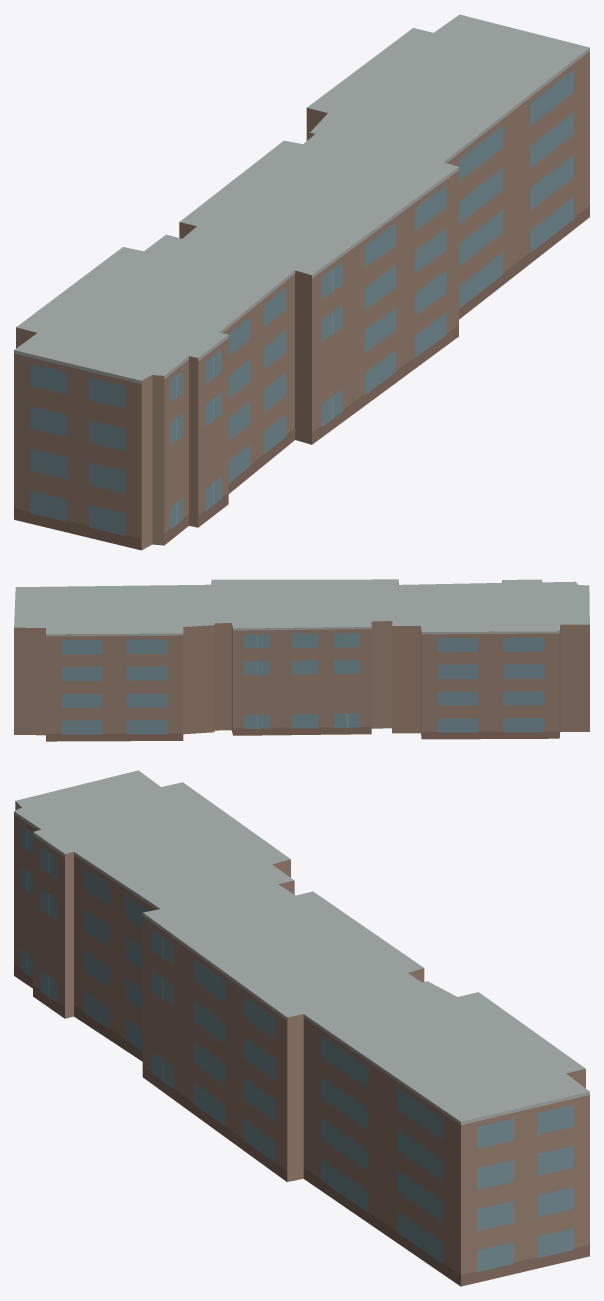
File: survey-upis-32468877.glb
3 views of the same model, one above another, from view 1: azimuth 30°, elevation 25°; view 2: azimuth 150°, elevation 25°; view 3: azimuth 270°, elevation 25° (orthographic). The views are drawn at different scales.
Visible parts, largest first — view 1: survey-upis-32468877.tmp; view 2: survey-upis-32468877.tmp; view 3: survey-upis-32468877.tmp.
Part boxes in pixels (x1,y1,x2,y2): survey-upis-32468877.tmp: (14, 14, 589, 550); survey-upis-32468877.tmp: (14, 579, 589, 741); survey-upis-32468877.tmp: (14, 770, 589, 1286).
Bounding box in the file's own units: 55.86 × 12.2 × 38.67.
